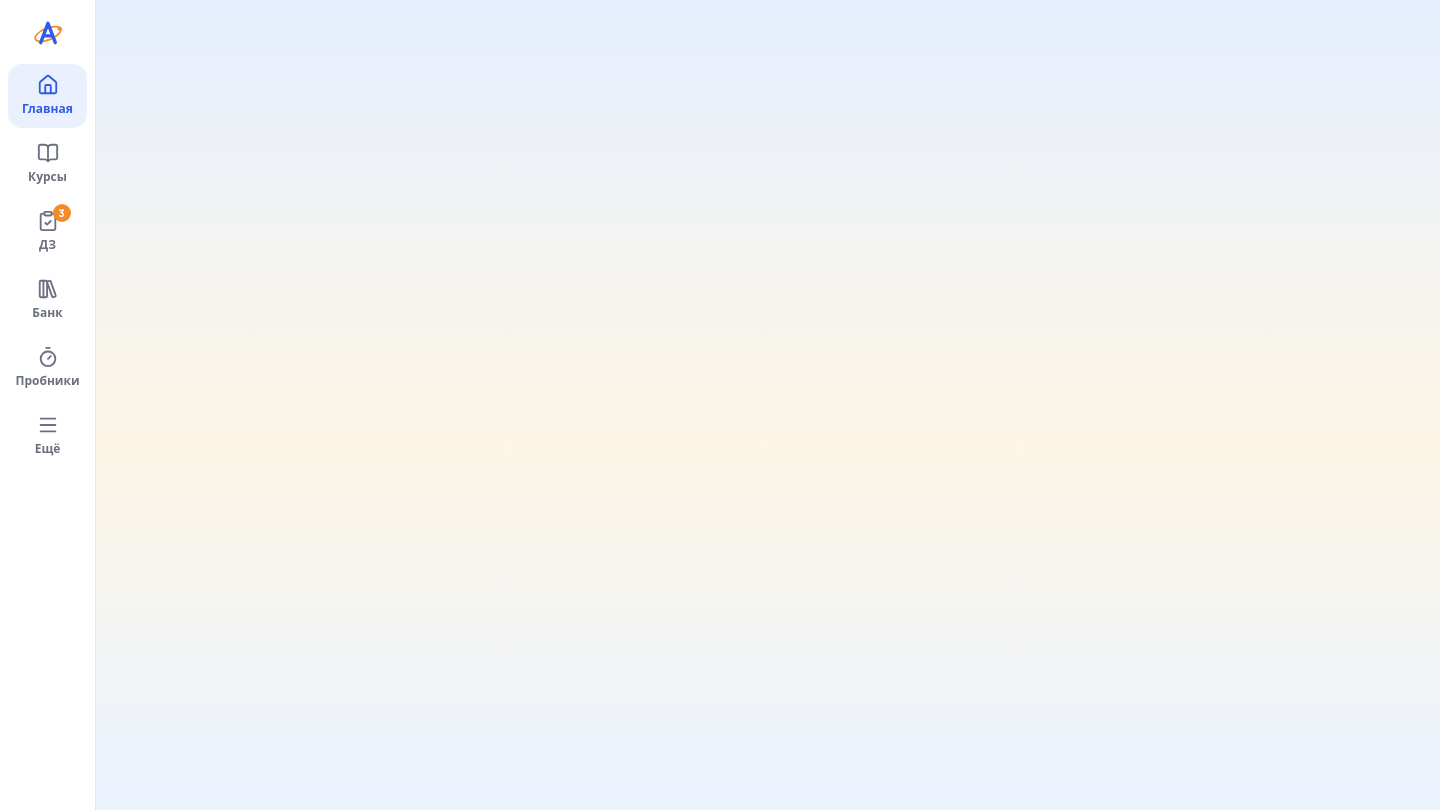
Test: меню ученика › «Ещё»: Подписка и курсы «до 18 нояб», Настройки, Выйти; переход закрывает меню
Step 1. Click the button with test id "student-nav-more" → [48, 436], box [8,404,87,468]
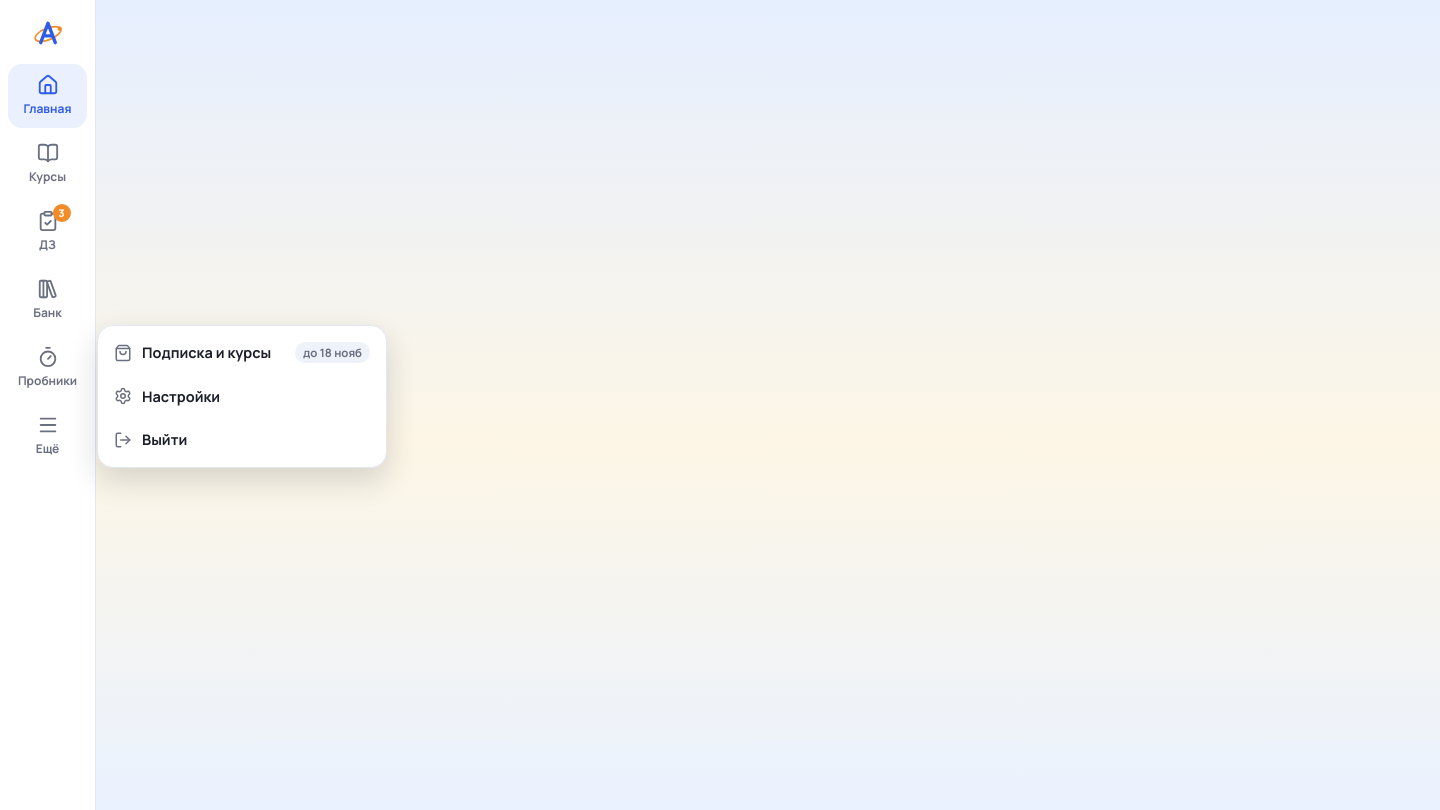
Expected: the menu items read "Подписка и курсыдо 18 нояб", "Настройки", "Выйти", in this order
Note: метка приходит из my_subscriptions (тот же access_until, что на карточке)
Step 2. Click the menu item with test id "student-more-subscription" → [242, 353], box [104,332,380,374]
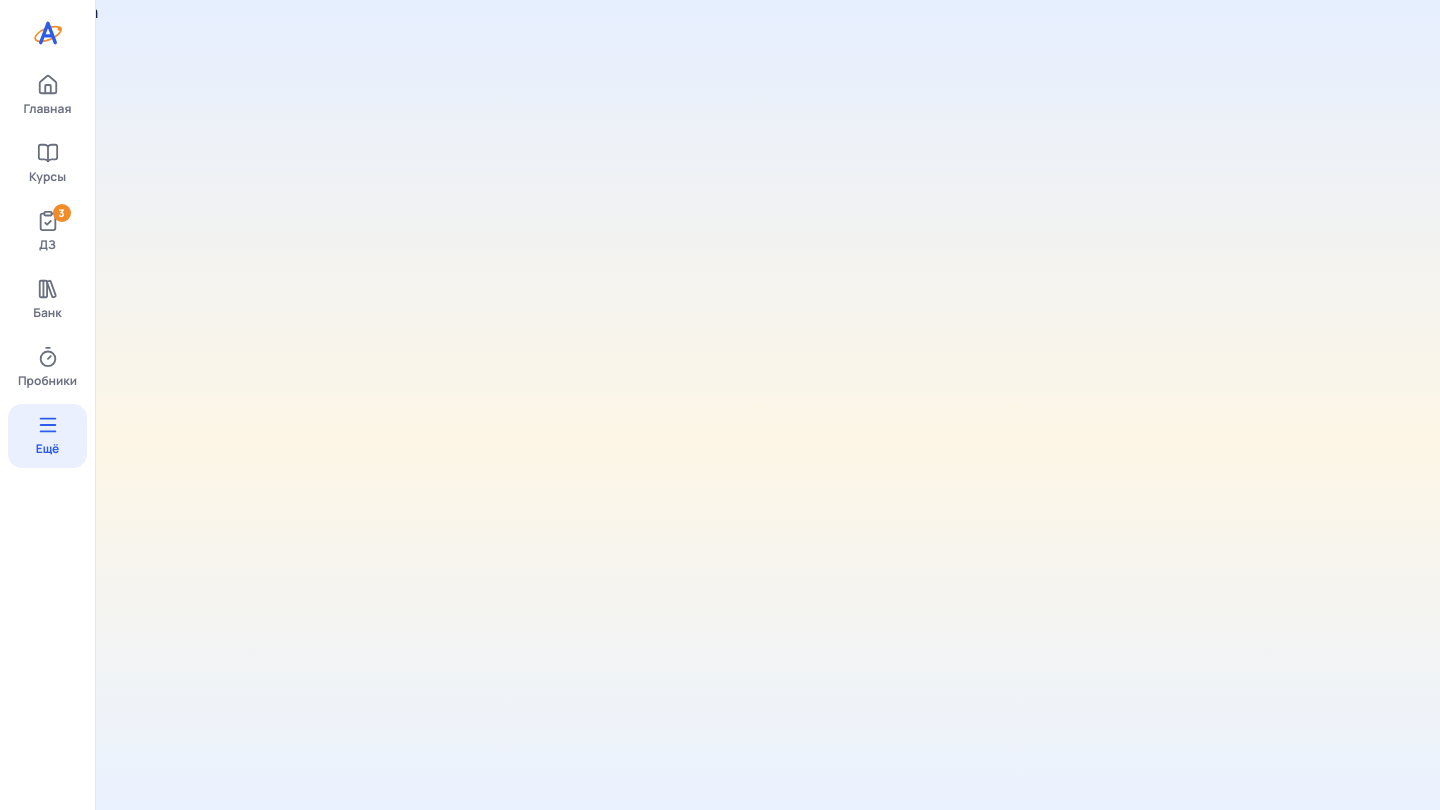
Expected: the text with test id "where" reads "/subscription", [0,1,99,23]
Expected: the element with test id "student-more-pop" is gone
